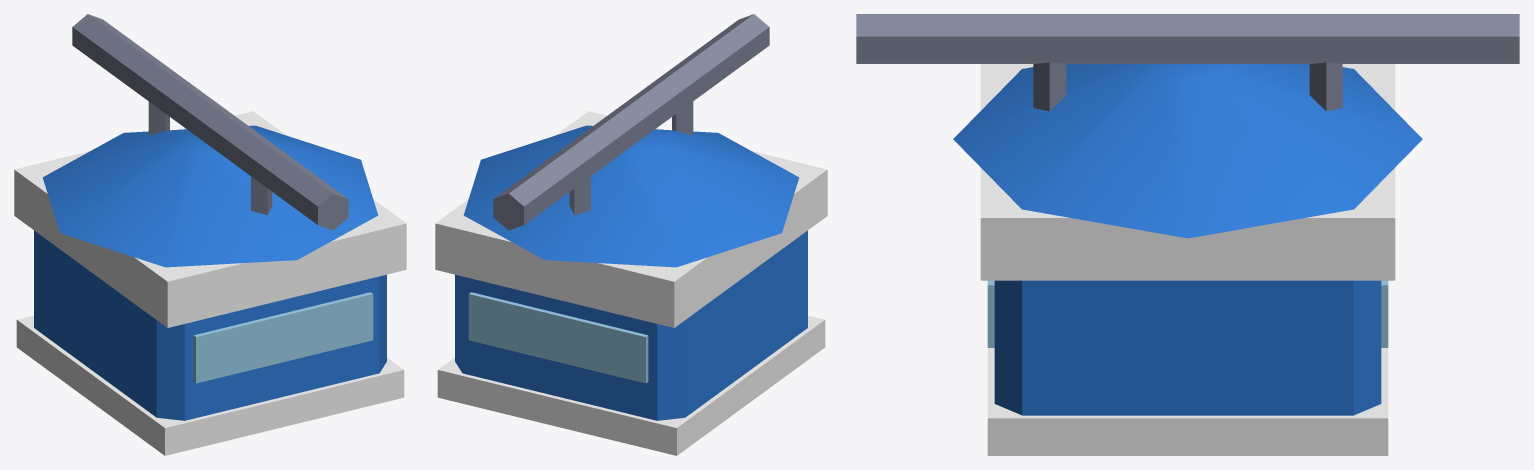
File: ferris-wheel.gondola-1.glb
3 renders of one model, left to right at view 1: azimuth 30°, elevation 25°; view 2: azimuth 150°, elevation 25°; view 3: azimuth 270°, elevation 25°, orthographic. The views are drawn at different scales.
Visible parts, largest first — view 1: model; view 2: model; view 3: model.
Part boxes in pixels (<box>): model: <box>14,14,406,455</box>; model: <box>435,14,827,455</box>; model: <box>856,14,1519,455</box>.
Bounding box in the file's own units: 0.34 × 0.29 × 0.48.
Materials: 1 (1 with a texture image).
